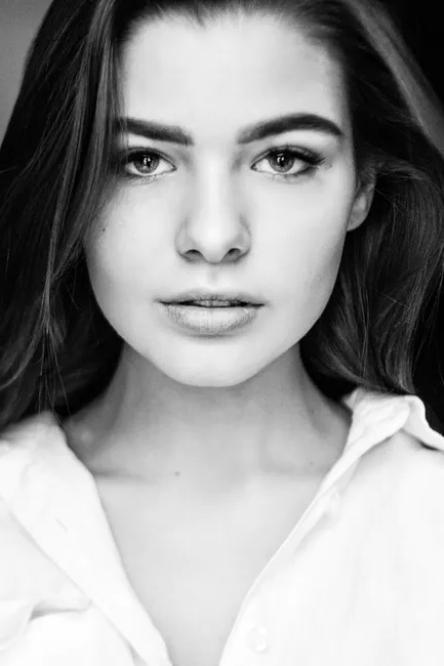face: (84, 7, 352, 388)
